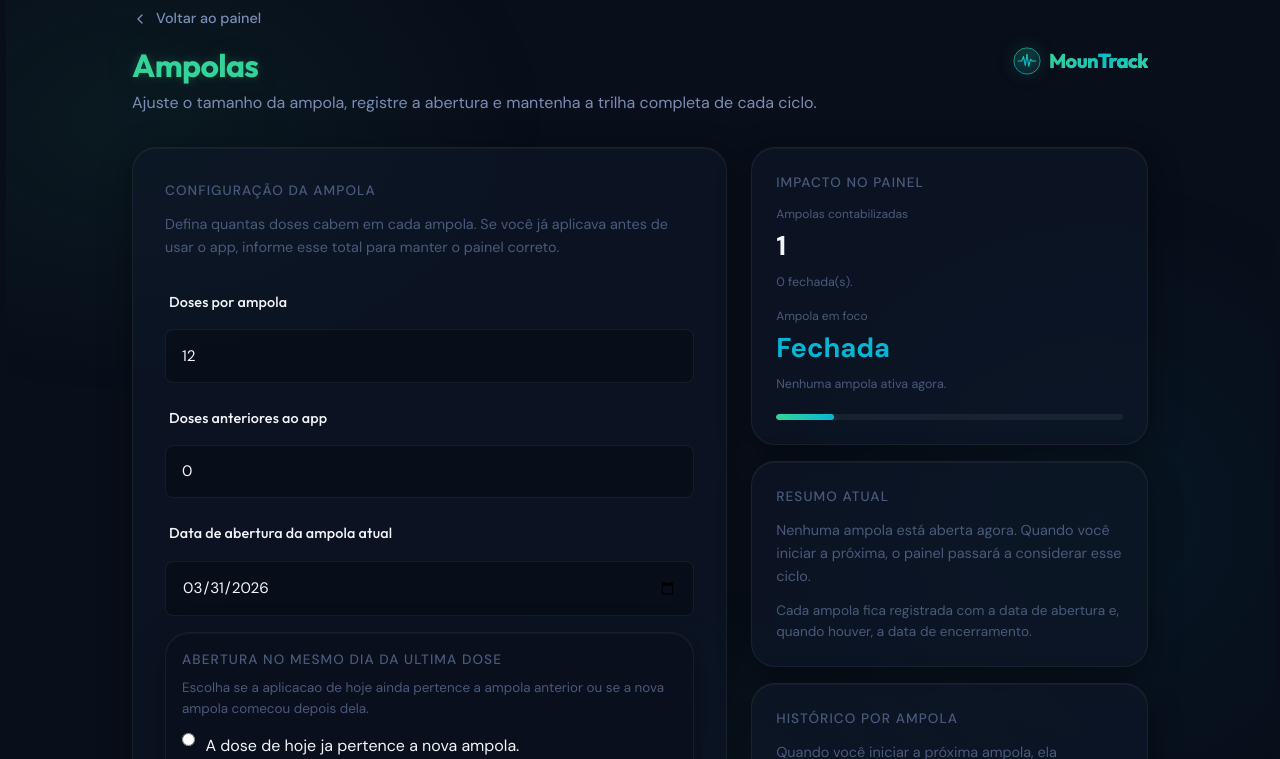
Test case: AmpoulesPage › shows an explicit same-day choice and updates the CTA based on the selected intent
Expected: the text "Abertura no mesmo dia da ultima dose" is shown, [182, 651, 502, 668]
What coordinates should you click on to do the following:
click the radio button labelled "A dose de hoje ja pertence a nova ampola."
I would click on:
 (188, 740)
Its box is [182, 733, 195, 746].
(page scrolled)
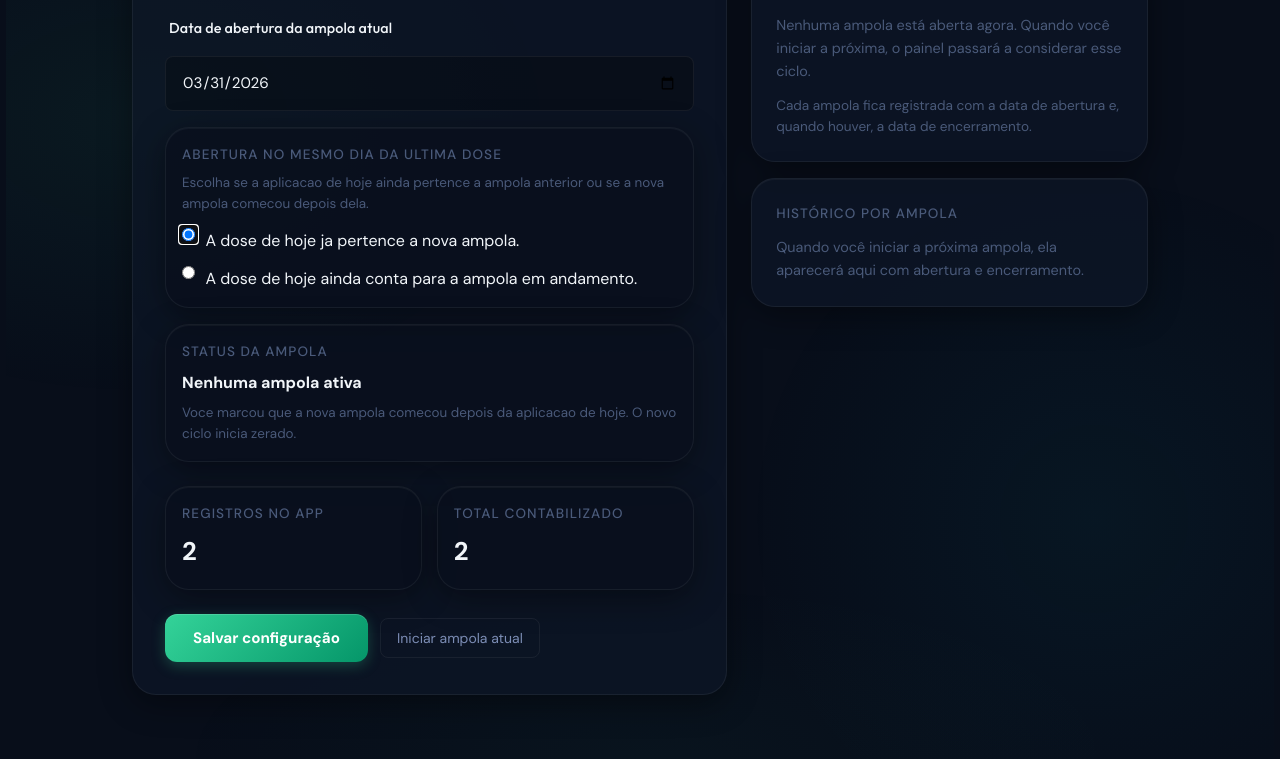
Now the button "Iniciar ampola atual" is shown, box [380, 618, 540, 658]
Now the text "Voce marcou que a nova ampola comecou depois da aplicacao de hoje. O novo ciclo inicia zerado." is shown, box [182, 404, 676, 442]
